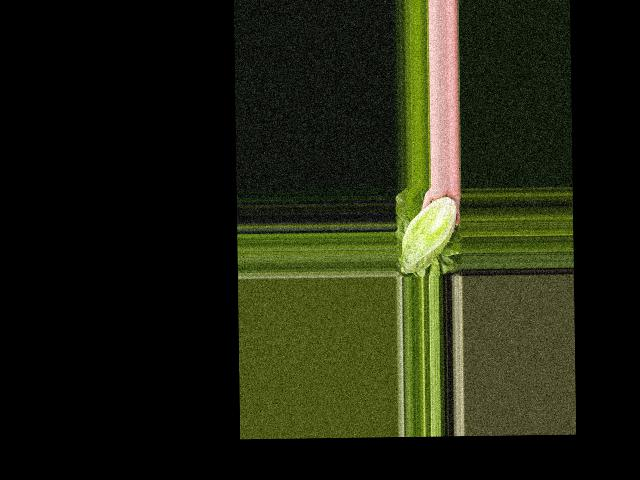lettuce: (399, 195, 459, 273)
